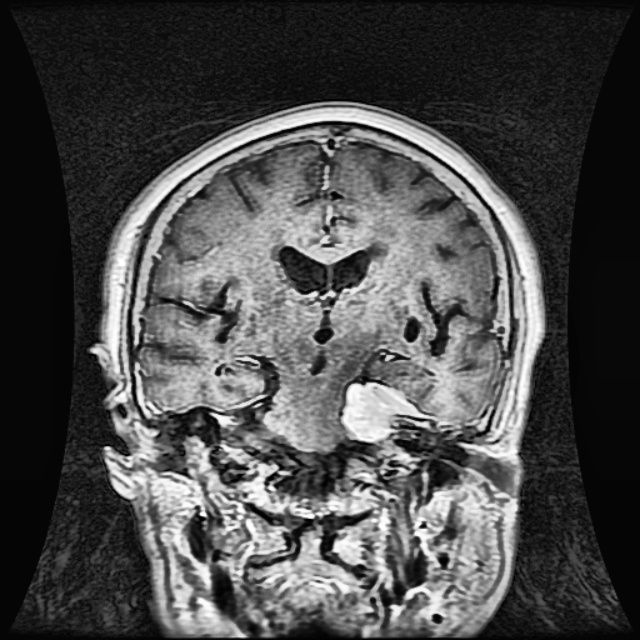Glioma: (339, 380, 423, 440)
